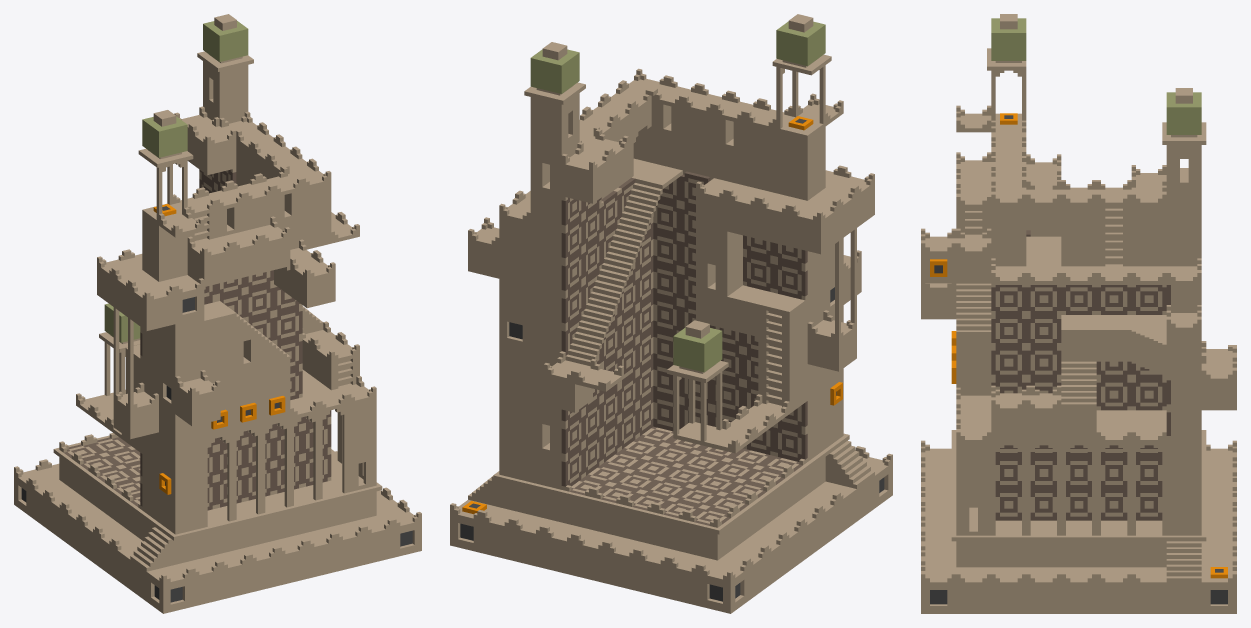
Rendered from monu10.obj.
3 renders of one model, left to right at view 1: azimuth 30°, elevation 25°; view 2: azimuth 150°, elevation 25°; view 3: azimuth 270°, elevation 25°, orthographic. The views are drawn at different scales.
Parts seen in each view (by area): view 1: monu10; view 2: monu10; view 3: monu10.
Part boxes in pixels (x1,y1,x2,y2): monu10: (14,14,421,613); monu10: (450,14,892,613); monu10: (921,14,1236,613).
Bounding box in the file's own units: 72 × 122 × 72.
Materials: 1 (1 with a texture image).
